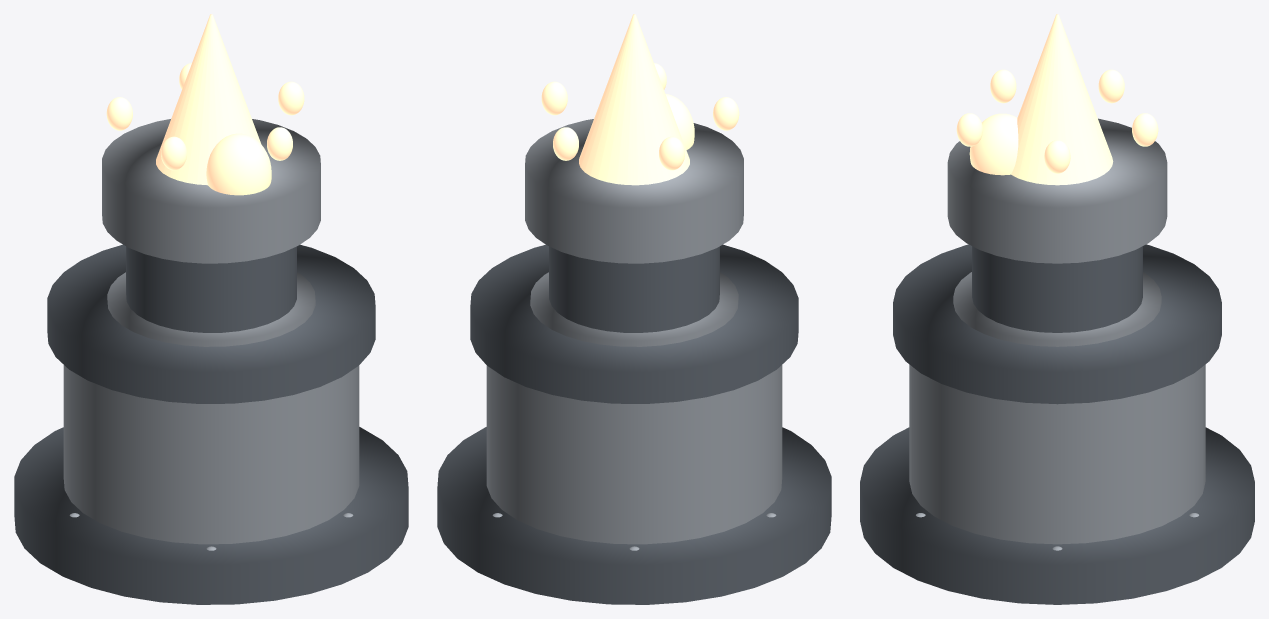
The model's file is fire.glb.
3 views of the same model, side by side, from view 1: azimuth 30°, elevation 25°; view 2: azimuth 150°, elevation 25°; view 3: azimuth 270°, elevation 25° (orthographic).
Parts seen in each view (by area): view 1: base, footing, baseCollar, brazier, shaft, flameOuter, lowerTrim, ember, FireEmber0, FireEmber2, FireEmber3, FireEmber1; view 2: base, footing, baseCollar, brazier, shaft, flameOuter, lowerTrim, ember, FireEmber0, FireEmber2, FireEmber3, FireEmber4; view 3: base, footing, baseCollar, brazier, shaft, flameOuter, lowerTrim, ember, FireEmber2, FireEmber3, FireEmber0, FireEmber1 (+1 smaller).
Part boxes in pixels (x1,y1,x2,y2): base: (63,365,359,544); footing: (14,427,408,604); baseCollar: (47,244,375,403); brazier: (102,119,320,263); shaft: (126,246,296,332); flameOuter: (156,14,261,185); lowerTrim: (107,272,315,346); ember: (206,133,271,195); FireEmber0: (278,81,304,115); FireEmber2: (161,136,186,170); FireEmber3: (106,97,132,130); FireEmber1: (267,127,292,160); base: (486,365,782,544); footing: (437,427,831,604); baseCollar: (470,244,798,403); brazier: (525,119,743,263); shaft: (549,246,719,332); flameOuter: (579,14,689,185); lowerTrim: (530,272,738,346); ember: (665,93,694,149); FireEmber0: (541,81,567,115); FireEmber2: (713,97,739,130); FireEmber3: (659,136,684,170); FireEmber4: (553,127,578,160); base: (909,364,1205,544); footing: (860,427,1254,604); baseCollar: (893,244,1221,404); brazier: (947,118,1167,263); shaft: (972,246,1142,332); flameOuter: (1011,14,1113,185); lowerTrim: (953,272,1161,346); ember: (969,113,1018,175); FireEmber2: (990,69,1016,103); FireEmber3: (1098,69,1124,103); FireEmber0: (1044,140,1070,173); FireEmber1: (956,113,982,146).
Size of the model in its own units: 1.8 by 2.55 by 1.8.
